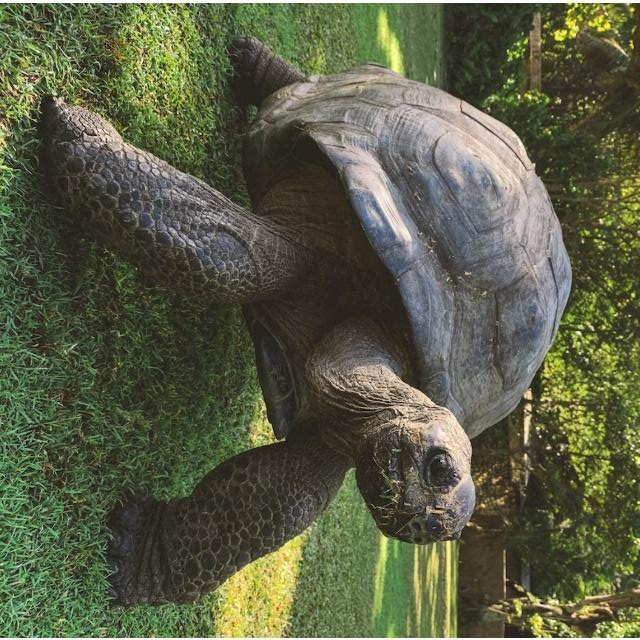turtle: (42, 36, 575, 609)
